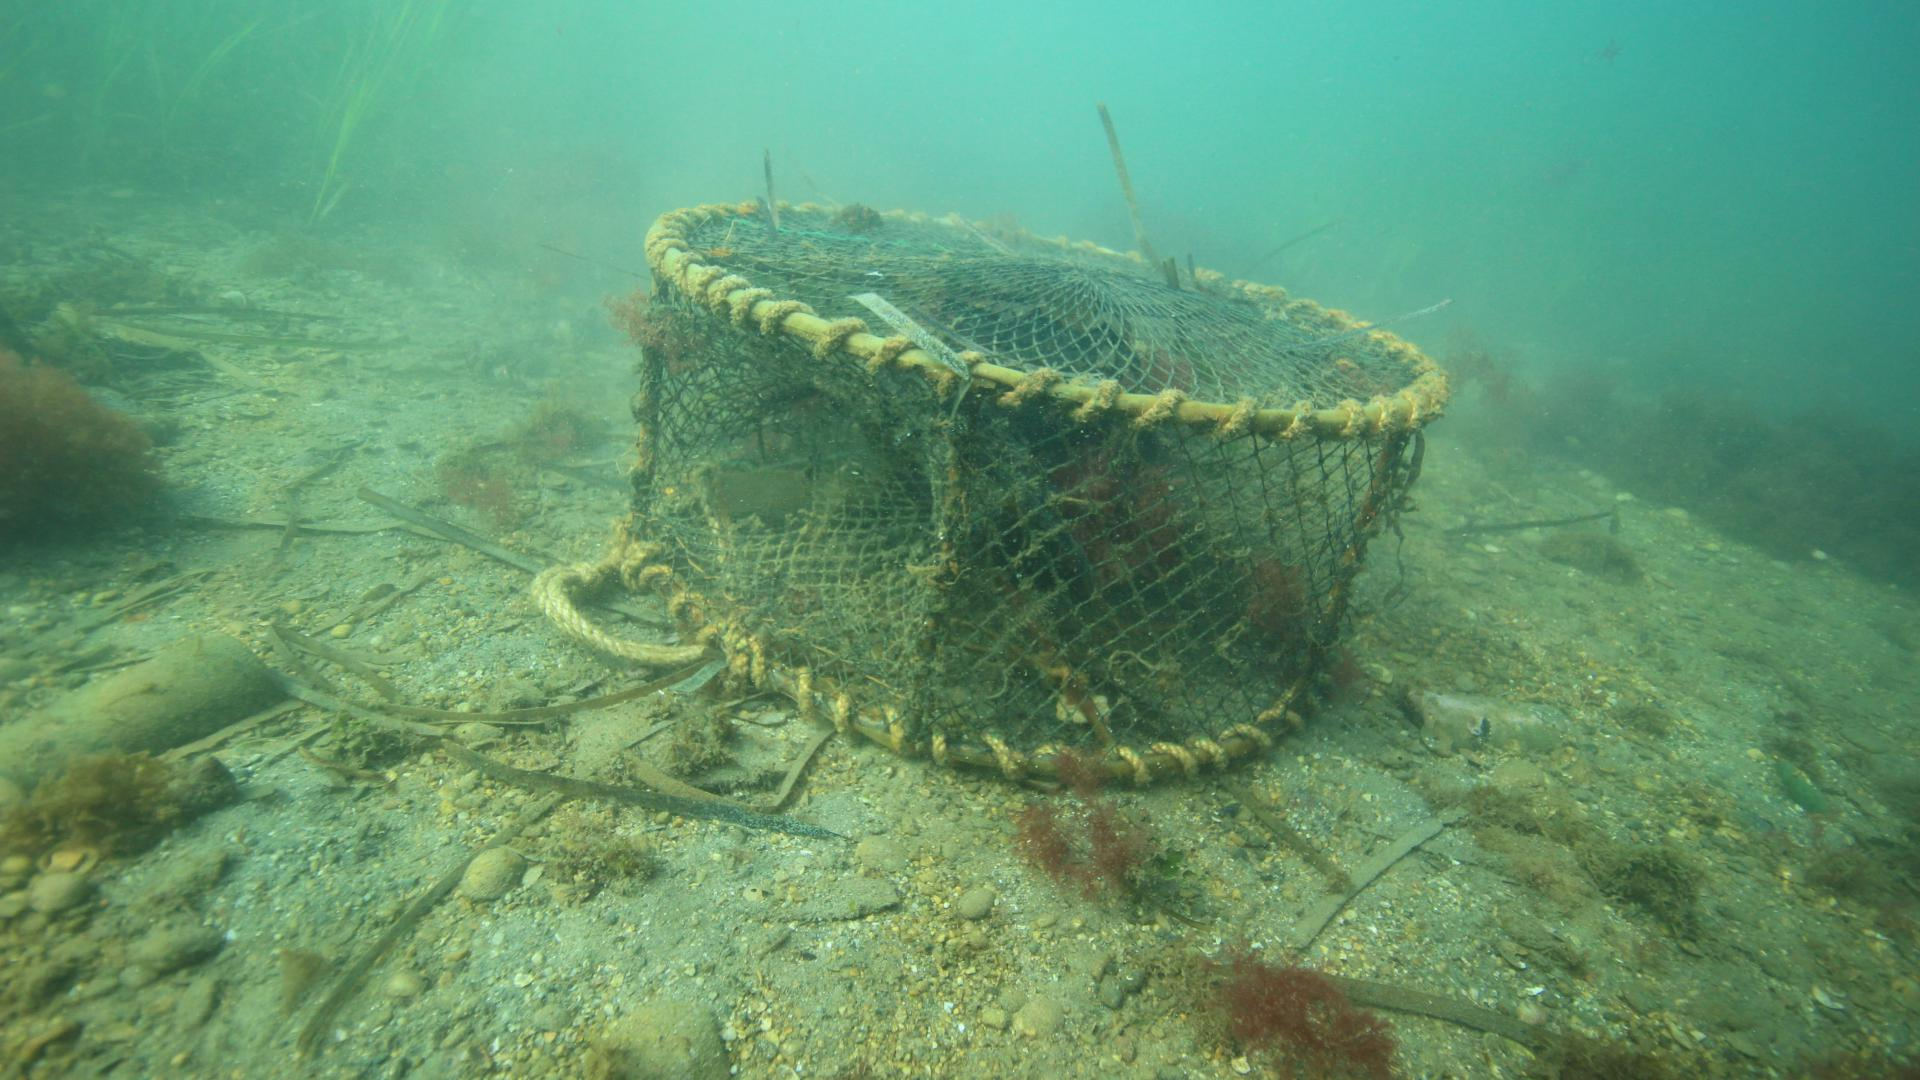bundle of ropes: (525, 549, 711, 665)
circular fish trap: (615, 199, 1449, 785)
